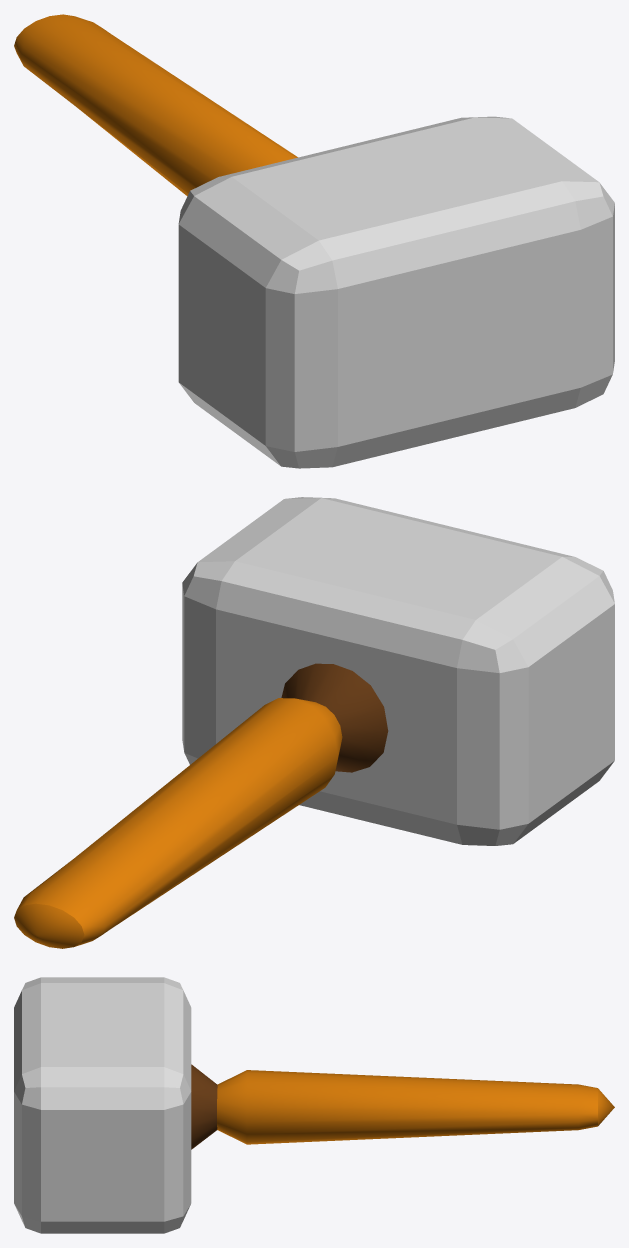
File: Hammer.fbx
3 renders of one model, top to bottom at view 1: azimuth 30°, elevation 25°; view 2: azimuth 150°, elevation 25°; view 3: azimuth 270°, elevation 25°, orthographic. The views are drawn at different scales.
Parts seen in each view (by area): view 1: Hammer; view 2: Hammer; view 3: Hammer.
Boxes of the visible parts, <box> form: Hammer: <box>14,14,614,468</box>; Hammer: <box>14,497,614,948</box>; Hammer: <box>14,977,614,1233</box>.
Size of the model in its own units: 0.7499 by 1.58 by 0.4658.
